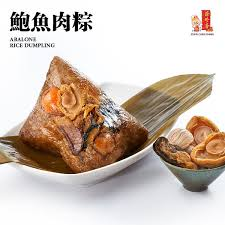zongzi: (19, 57, 148, 172)
